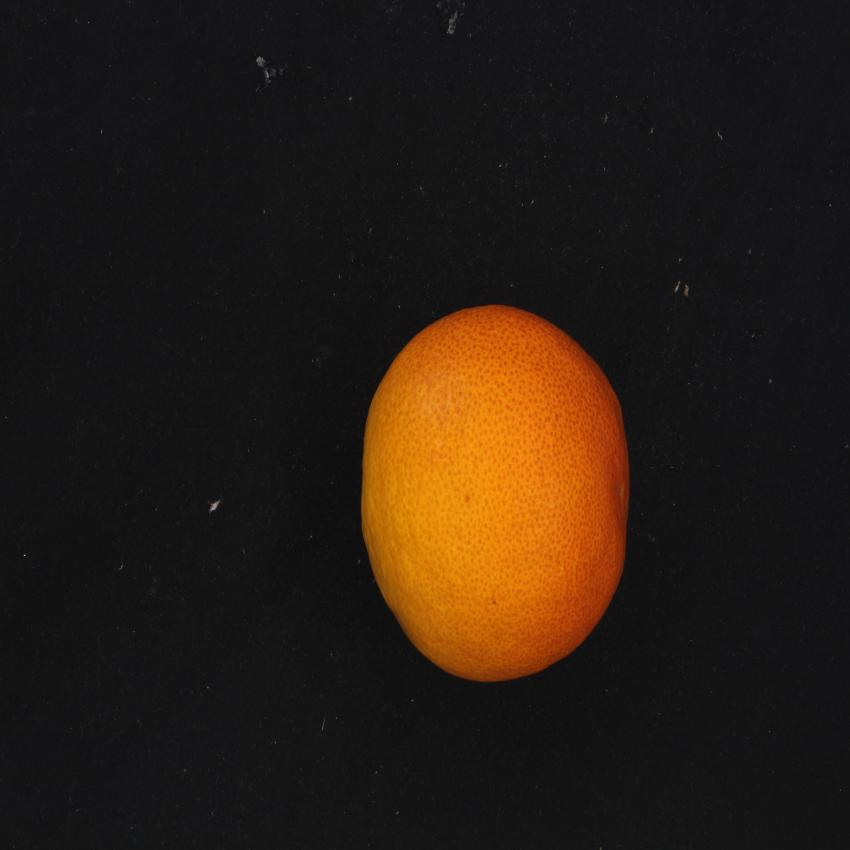Buen estado: (350, 293, 651, 703)
